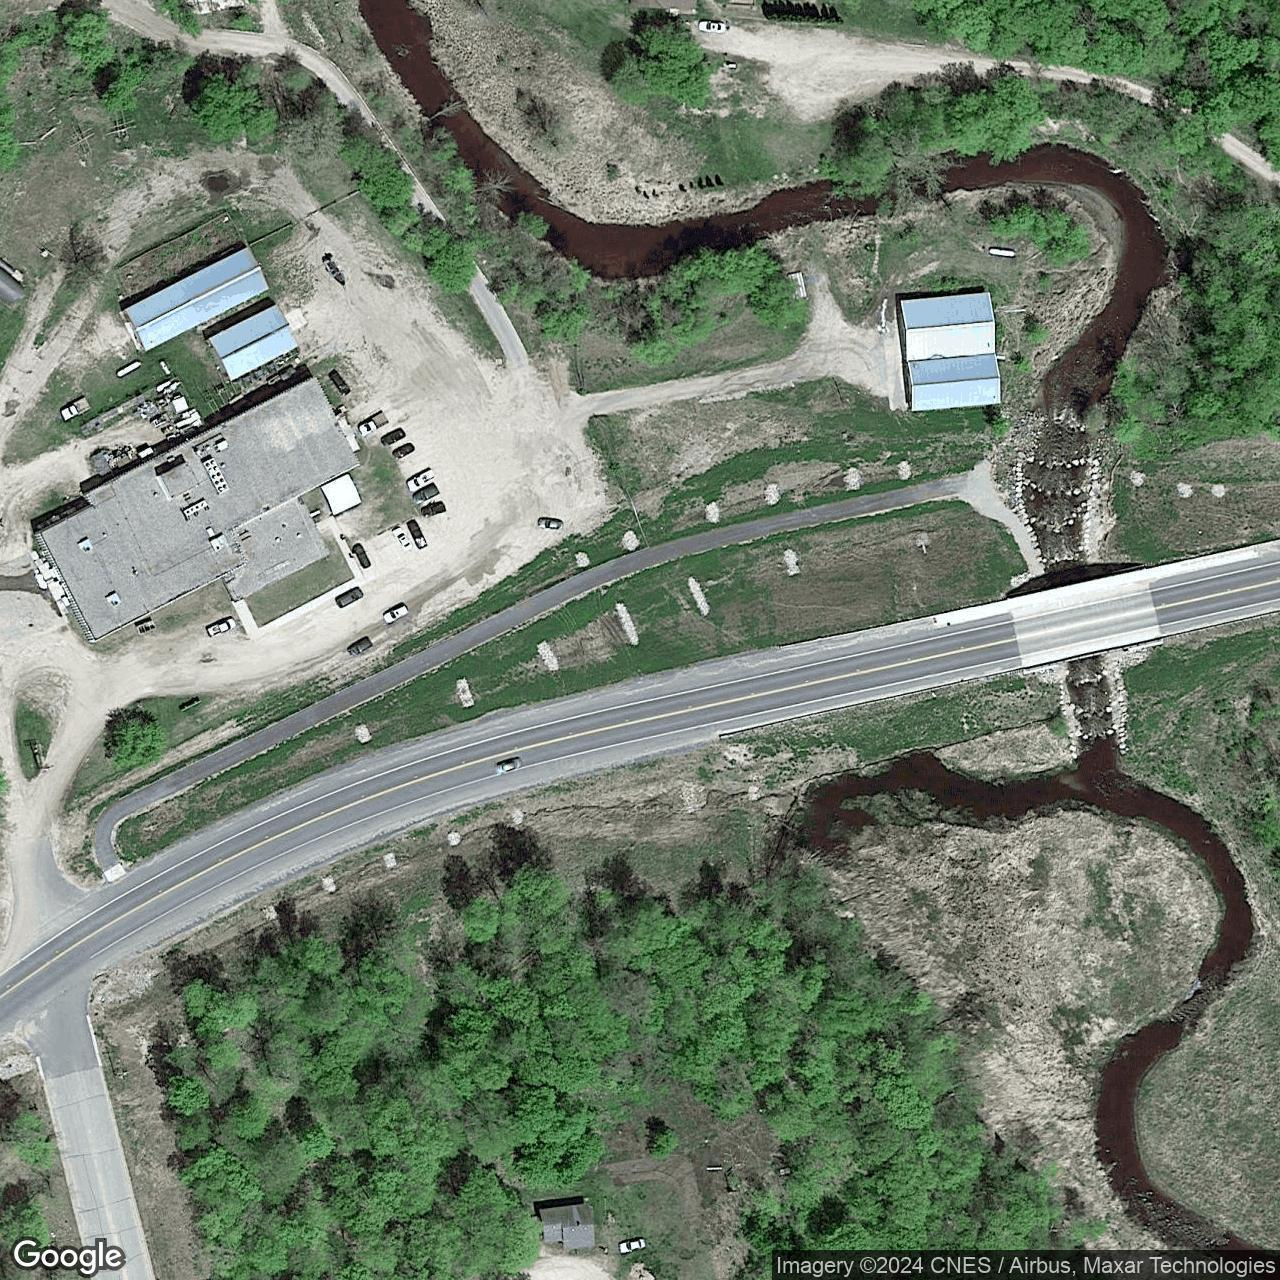House: (539, 1203, 597, 1251)
Other: (34, 375, 363, 645), (118, 245, 270, 354), (898, 292, 1003, 410), (206, 304, 297, 382)
Propane: (115, 358, 143, 380), (987, 246, 1016, 259), (158, 358, 172, 376), (308, 506, 322, 519)
